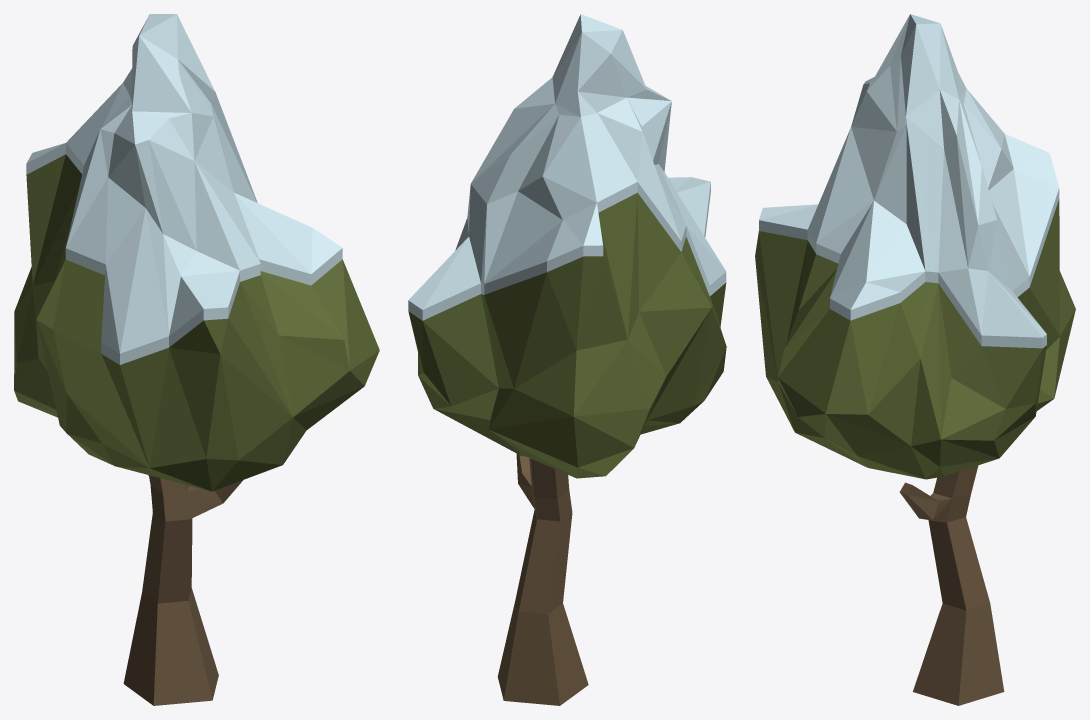
Rendered from SM_Env_Tree_02_Snow.gltf.
The picture shows the model from 3 angles, left to right: view 1: azimuth 30°, elevation 25°; view 2: azimuth 150°, elevation 25°; view 3: azimuth 270°, elevation 25°; orthographic projection. The views are drawn at different scales.
Parts seen in each view (by area): view 1: SM_Env_Tree_02_Snow; view 2: SM_Env_Tree_02_Snow; view 3: SM_Env_Tree_02_Snow.
Part boxes in pixels (box(x1,y1,x2,y2)): SM_Env_Tree_02_Snow: box(14, 14, 379, 705); SM_Env_Tree_02_Snow: box(408, 14, 726, 705); SM_Env_Tree_02_Snow: box(755, 14, 1075, 705).
Bounding box in the file's own units: 1.9 × 4.28 × 1.91.
Materials: 1 (1 with a texture image).
